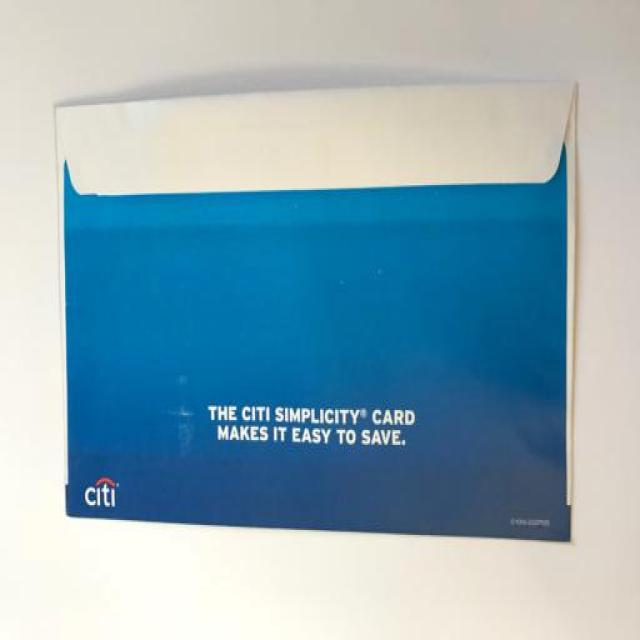paper: (49, 98, 582, 530)
